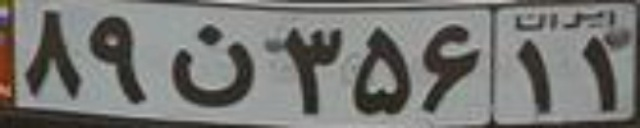1: (511, 35, 552, 114), (580, 34, 619, 111)
3: (282, 27, 345, 115)
5: (352, 29, 410, 115)
6: (420, 23, 481, 112)
8: (25, 9, 81, 100)
9: (88, 14, 146, 104)
non: (168, 22, 258, 110)
